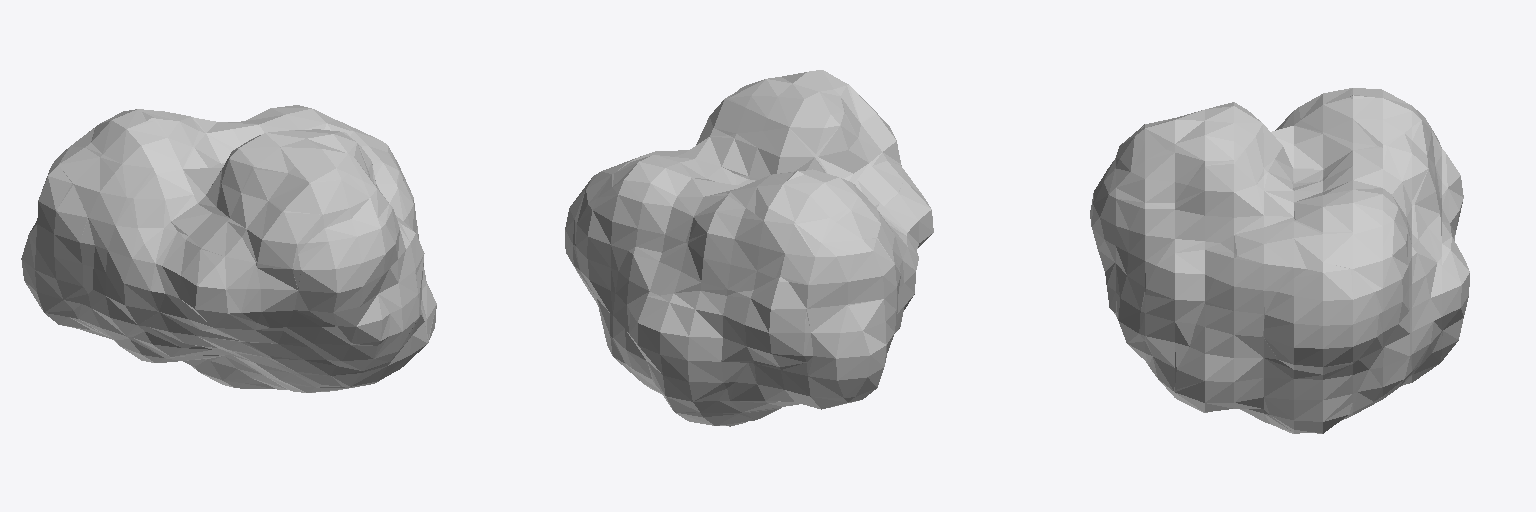
The model's file is 4tlv_mb_cms.obj.
3 views of the same model, side by side, from view 1: azimuth 30°, elevation 25°; view 2: azimuth 150°, elevation 25°; view 3: azimuth 270°, elevation 25° (orthographic).
Bounding box in the file's own units: 80.56 × 64.93 × 78.07.